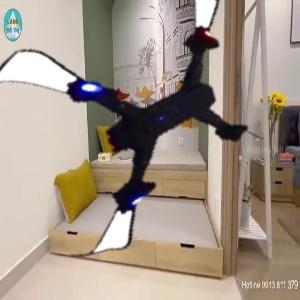drone: (9, 6, 262, 259)
